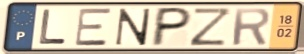E: (74, 7, 113, 47)
L: (37, 8, 68, 47)
N: (113, 7, 154, 47)
P: (148, 6, 195, 48)
R: (231, 6, 272, 47)
Z: (188, 7, 234, 48)
